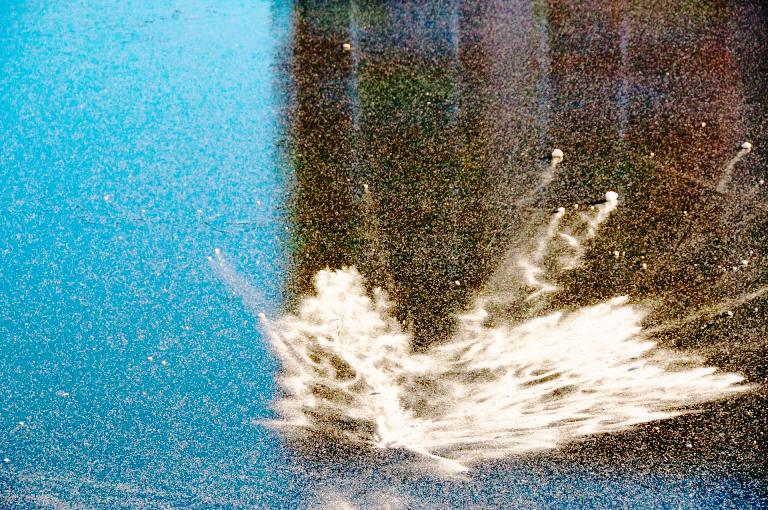Bird Poop: (266, 268, 743, 472), (507, 194, 615, 306)
